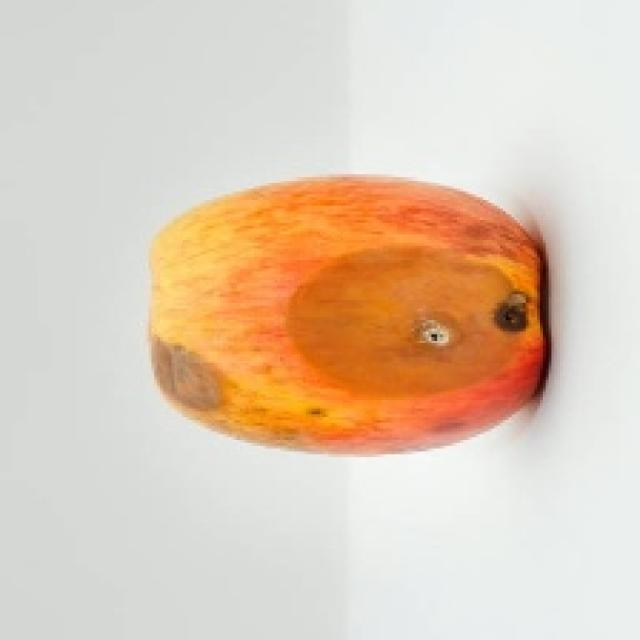rotten_apple: (154, 179, 547, 455)
